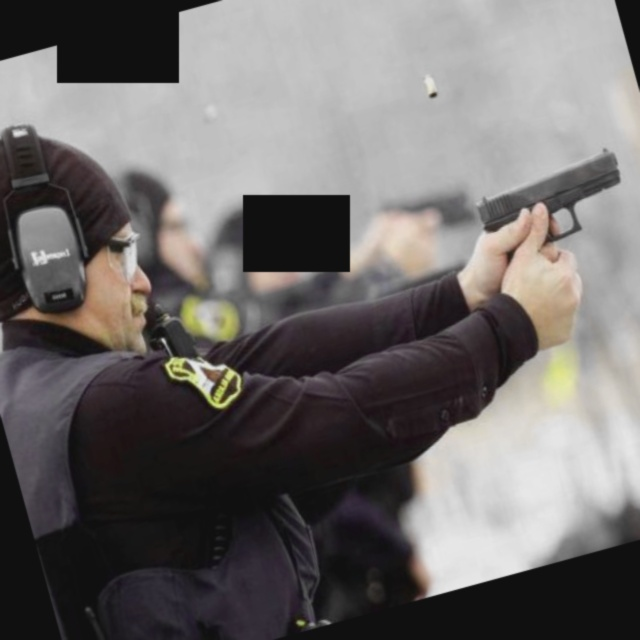gun: (425, 110, 640, 376)
